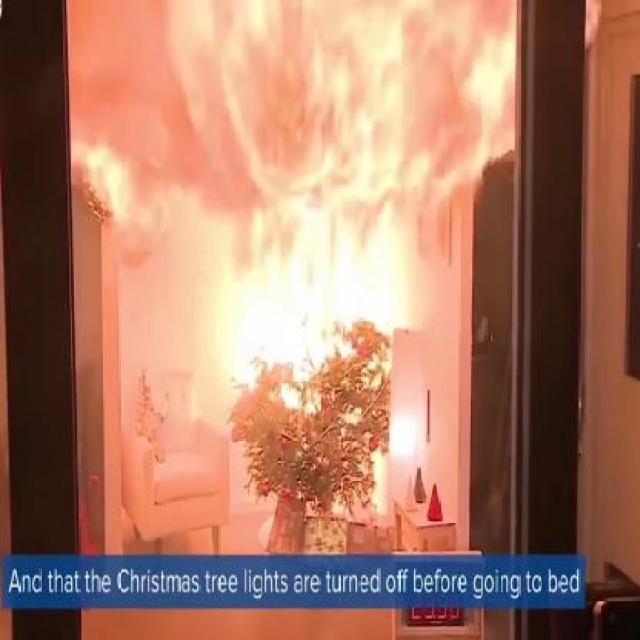fire: (235, 99, 422, 379)
